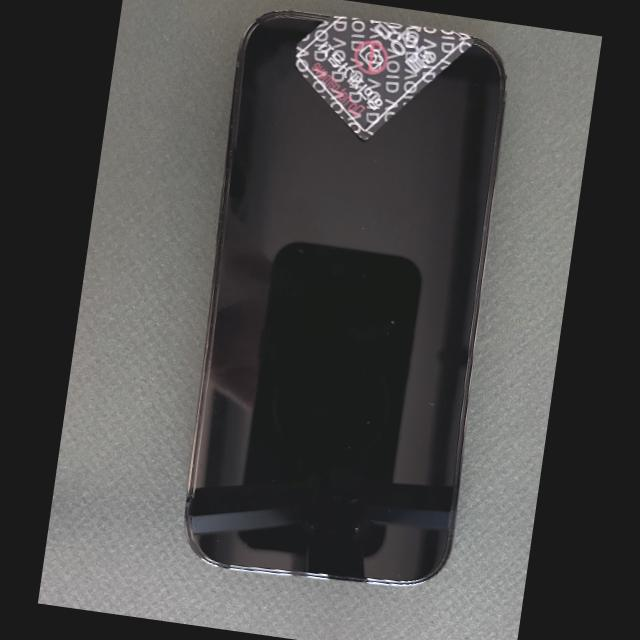phone: (182, 8, 506, 586)
sticker: (294, 14, 474, 141)
